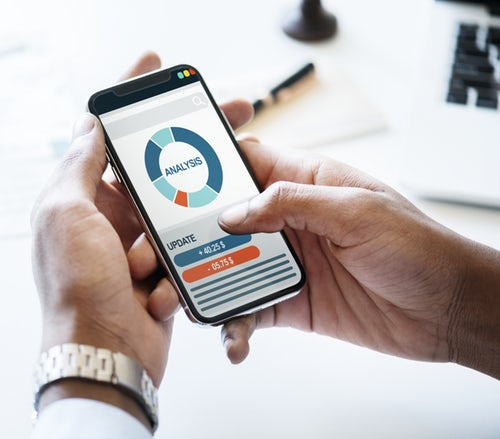phone: (82, 61, 313, 323)
